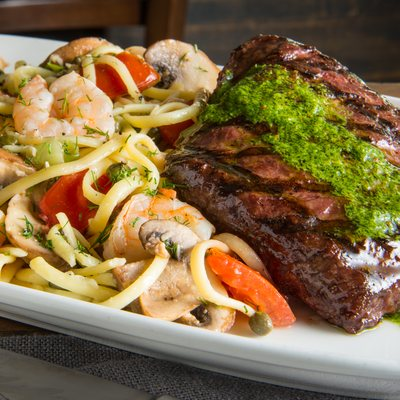curry: (191, 37, 400, 248)
sushi: (1, 30, 400, 398)
